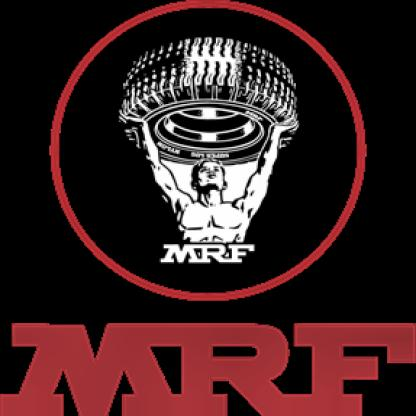MRF: (0, 321, 416, 416)
